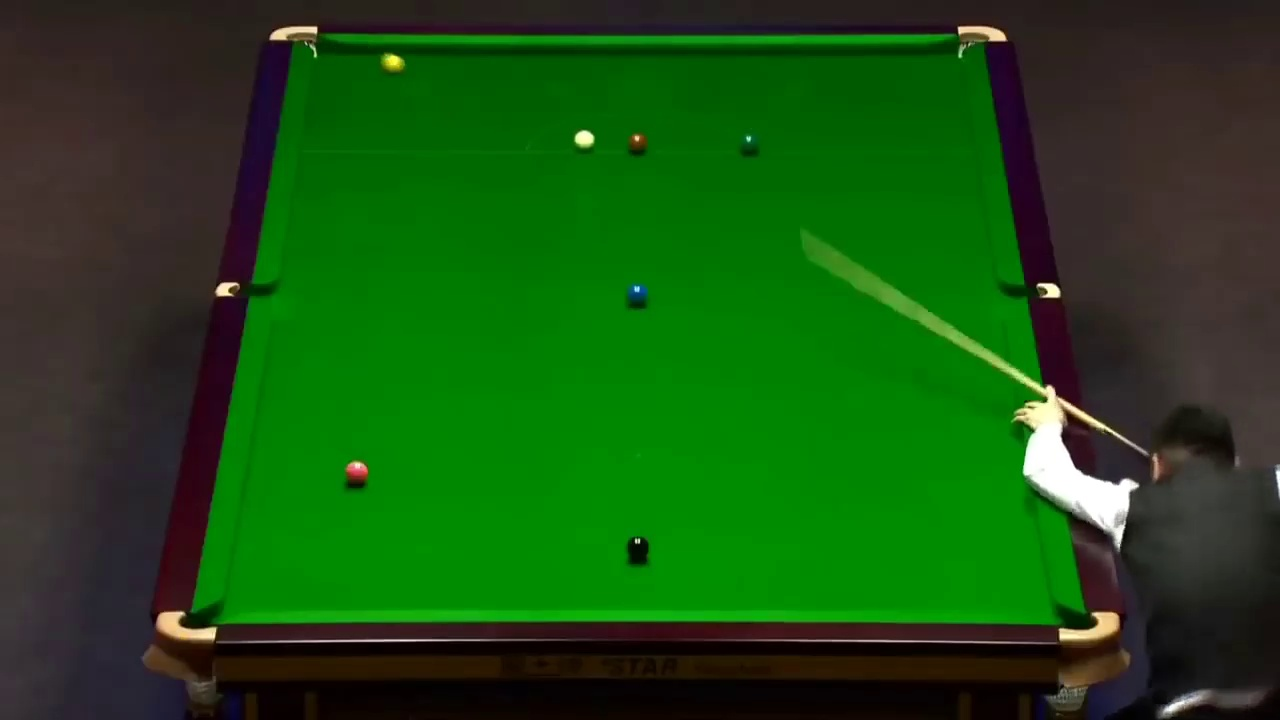ball: (626, 535, 651, 562), (734, 130, 758, 156), (345, 462, 367, 486), (626, 281, 646, 306), (628, 129, 645, 157)
